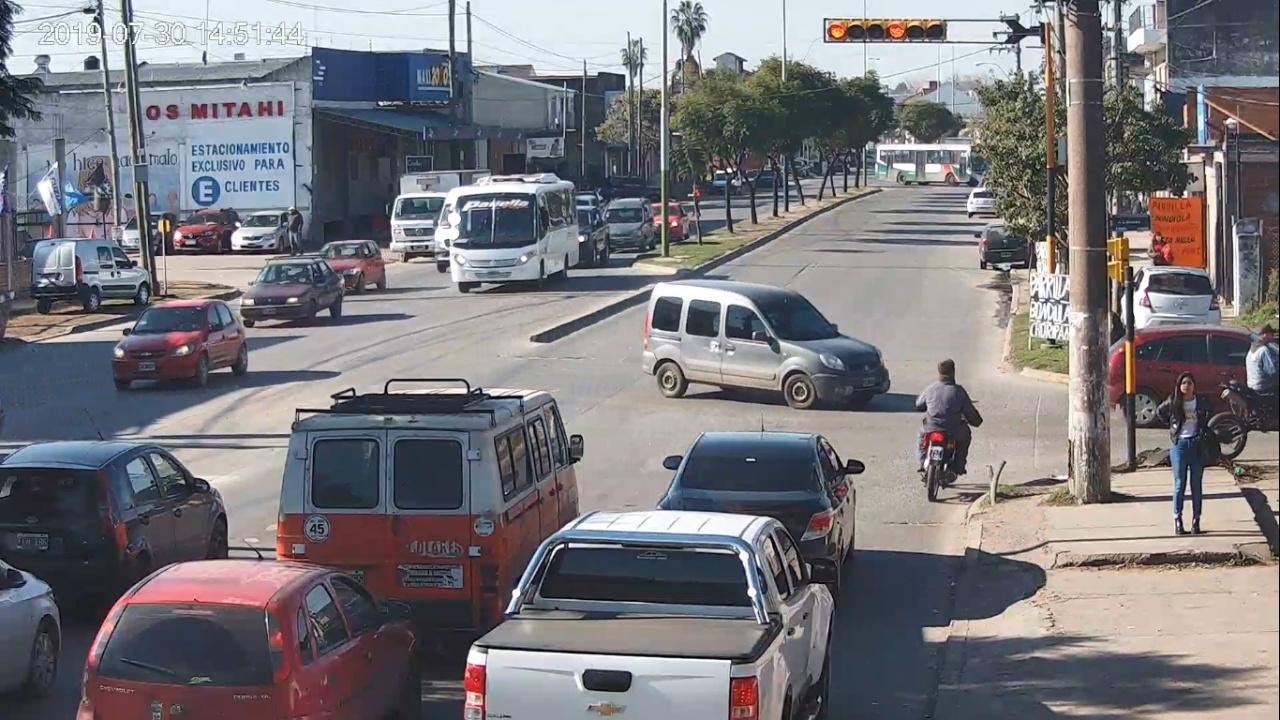car: (80, 560, 419, 720)
front car: (111, 299, 248, 387)
motorcycle: (916, 385, 983, 502)
traffic light: (827, 17, 947, 42)
